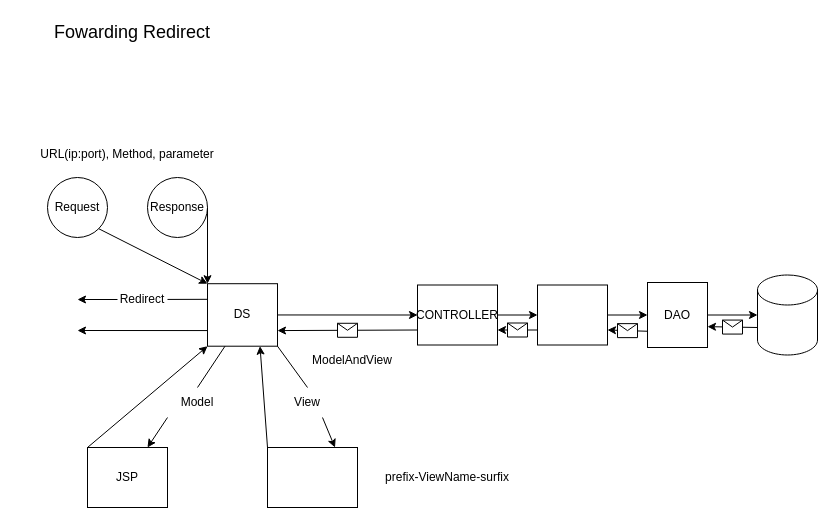
The diagram is 835 pixels wide and 525 high, and some of its shapes have lost their labels. Each missing label, with the centre of its shape:
"DB" belongs at point 787,314.
"Internal Resource ViewResolver" belongs at point 312,477.
"SERVICE" belongs at point 572,314.
